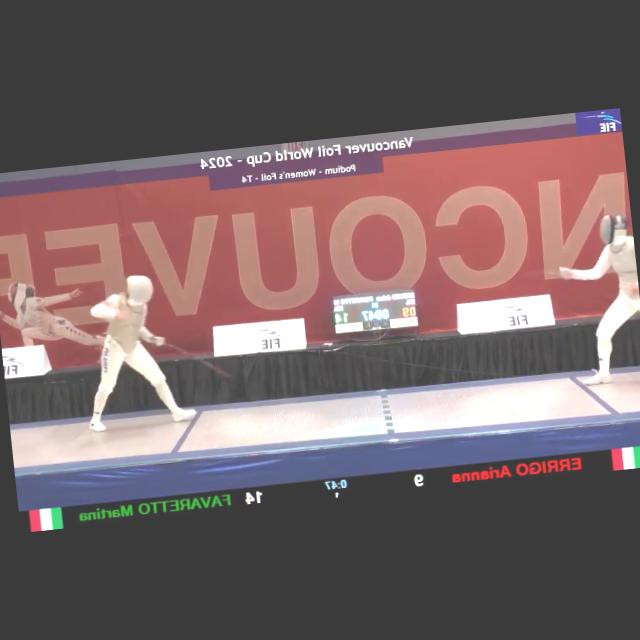blade: (152, 326, 230, 385)
